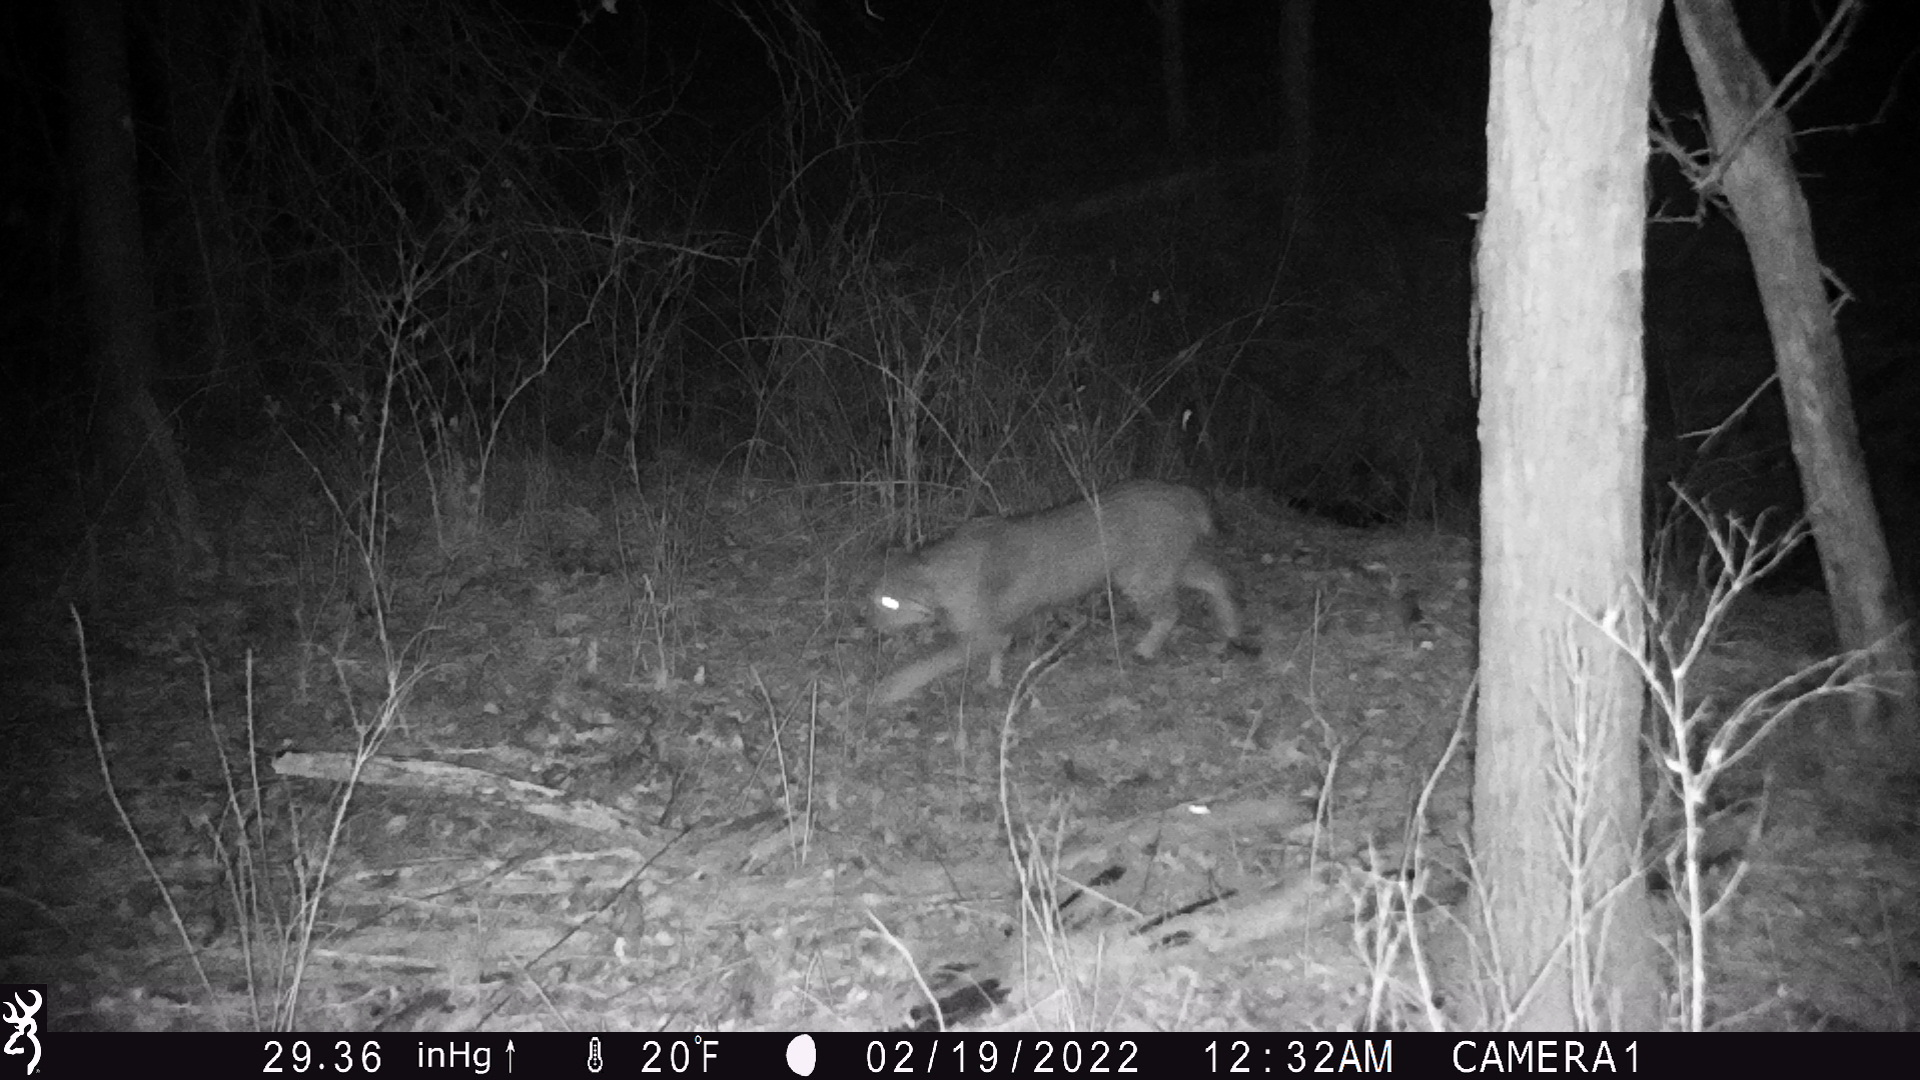Bobcat: (865, 477, 1238, 709)
